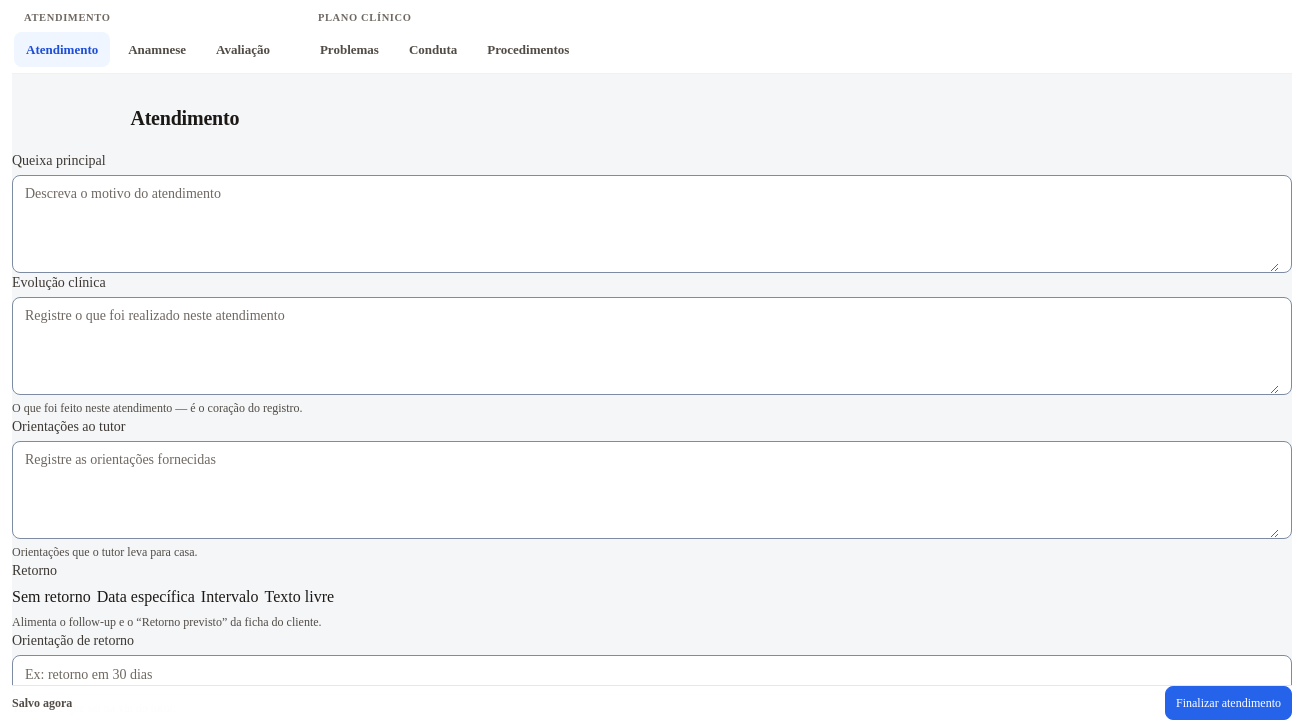
Scenario: F1B1 · troca de seção grava antes (mesma regra de saída do F1A) › troca com gravação confirmada: salva o texto e só então muda de seção
Type "Coceira" into the text box labelled "Queixa principal" at (652, 224), box top-left (25, 176), bottom-right (1279, 272)
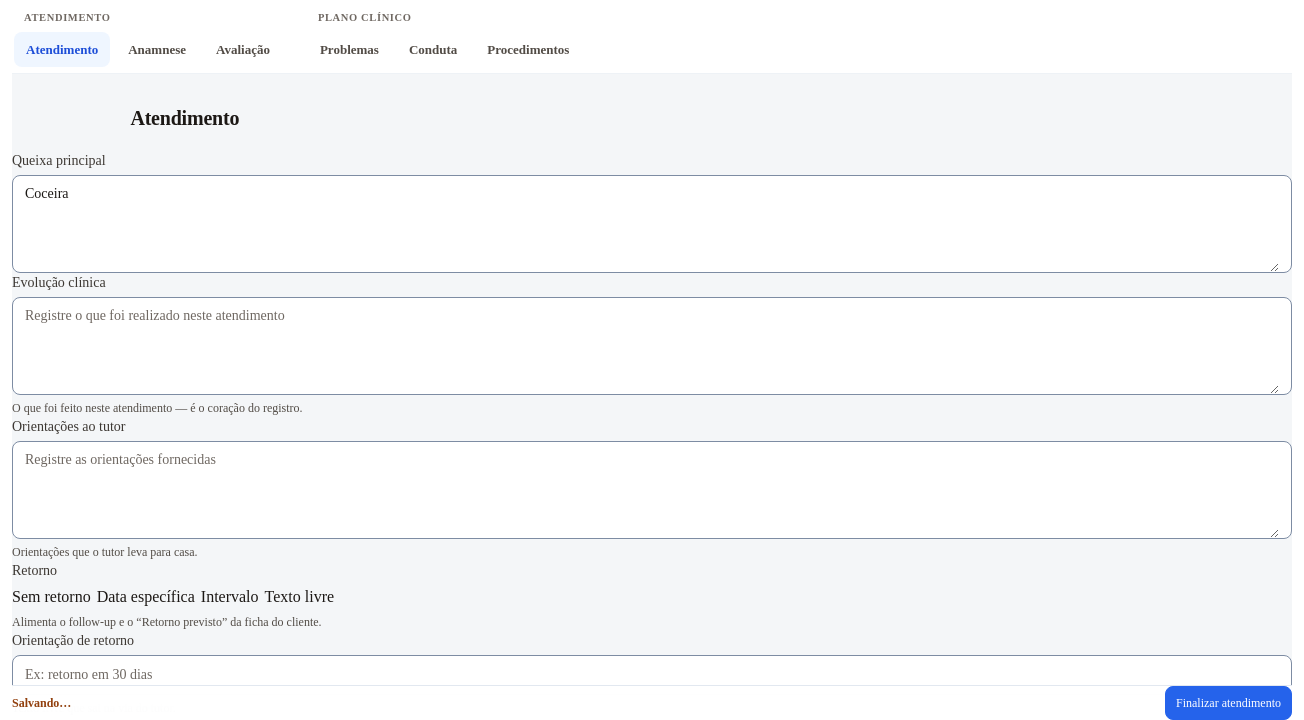
Click the button "Anamnese" at (157, 50), box top-left (116, 32), bottom-right (198, 67)
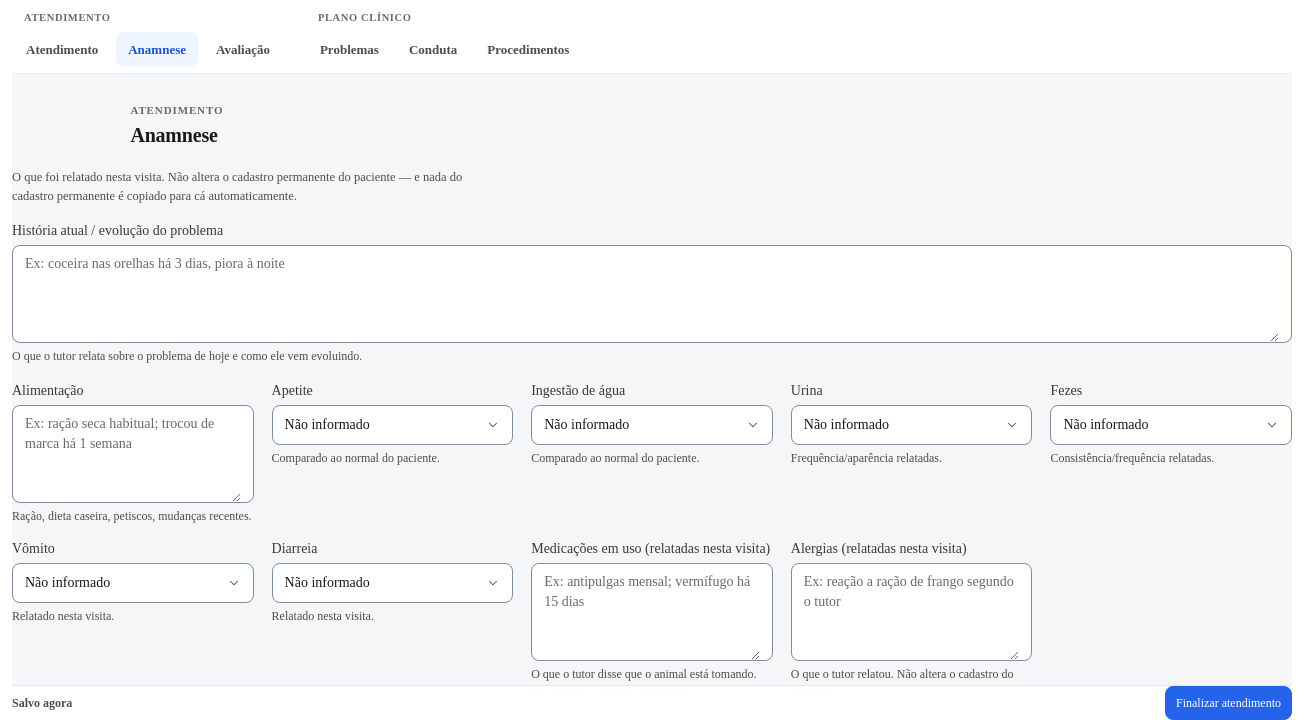
Expected: the text box labelled "História atual" is shown, top-left (25, 246), bottom-right (1279, 342)
